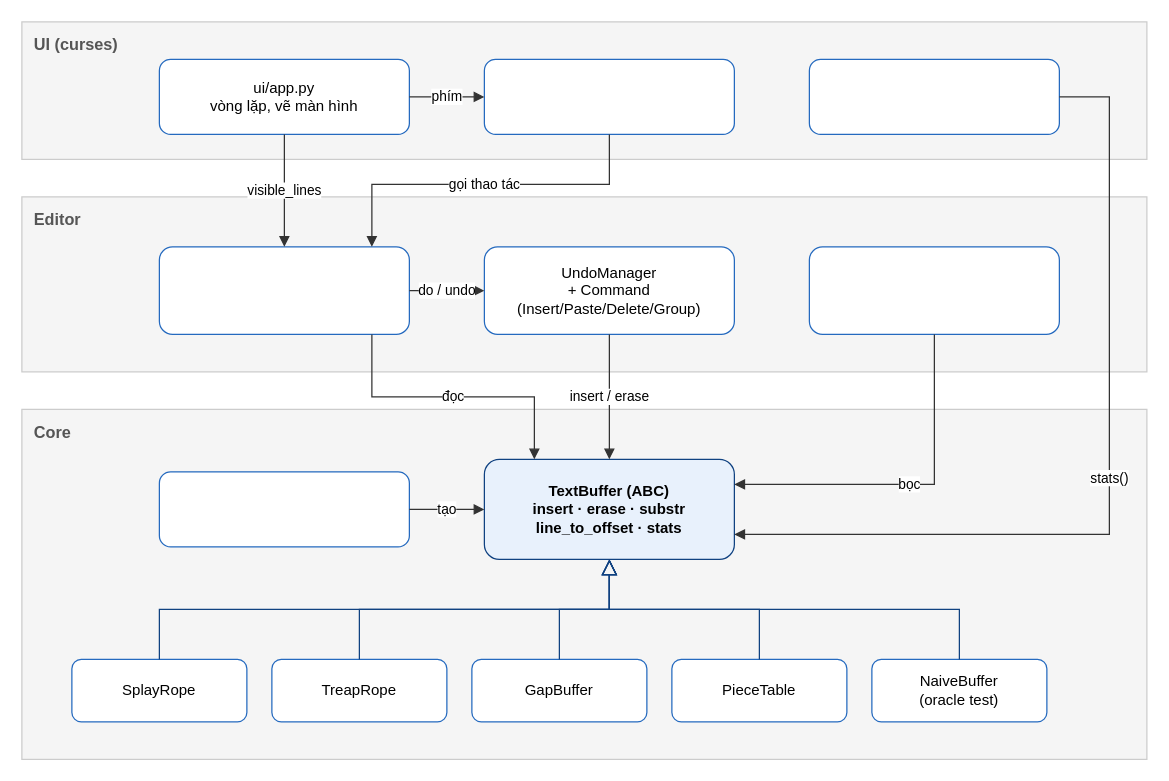
Some shapes in this 1169 by 781 pixel diagram are drawn without their labels. Each missing label, with the centre of its shape:
"Editor cursor, vùng chọn, tìm, lưu, viewport" belongs at (283,290).
"make_buffer(kind, …) factory" belongs at (283,509).
"TracingBuffer ghi trace (--record)" belongs at (933,290).
"ui/debug.py DebugPanel" belongs at (933,96).
"ui/keys.py phím → thao tác" belongs at (608,96).
